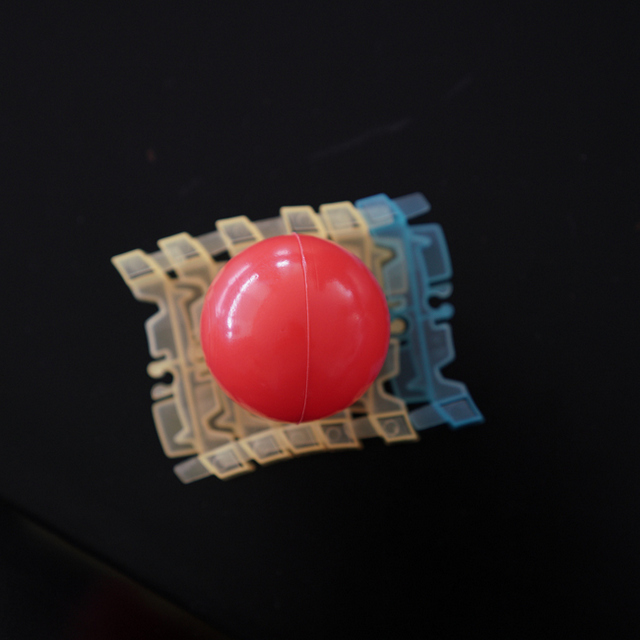Ball: (199, 235, 381, 423)
